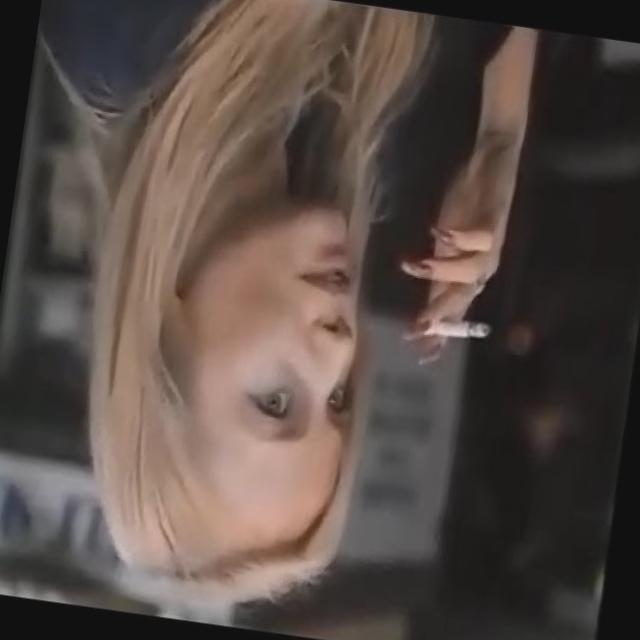smoke: (414, 309, 490, 350)
